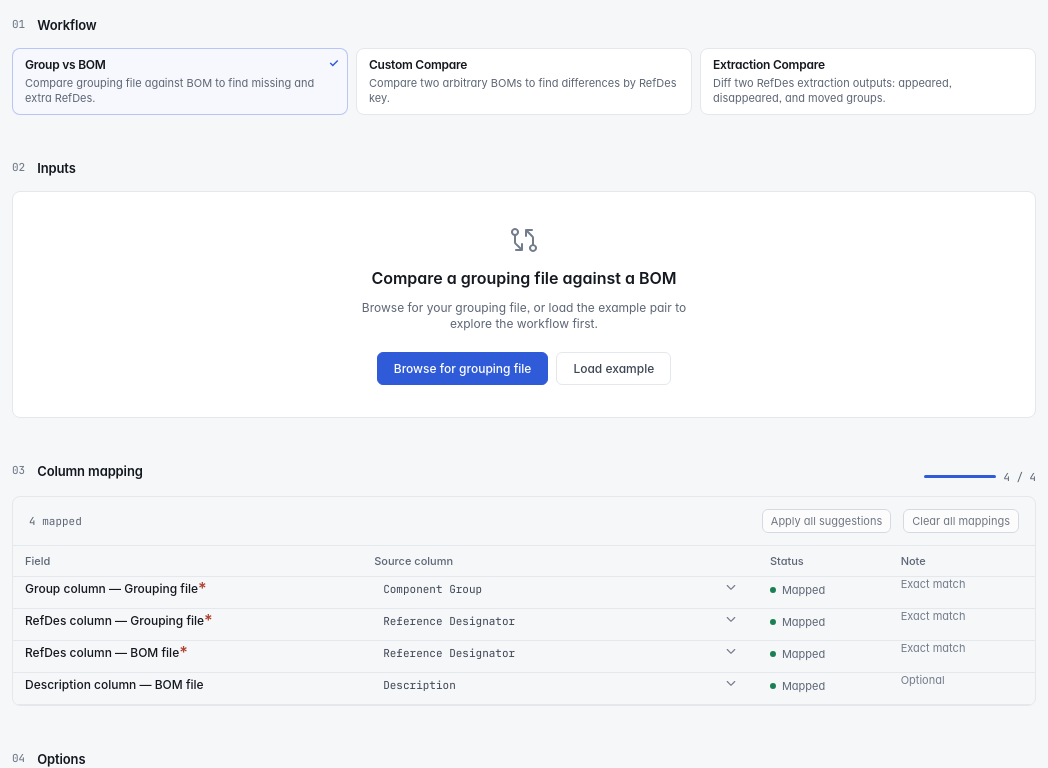
Test: BomCompareTool custom compare workflow › shows both file slots after switching to Custom Compare
The width and height of the screenshot is (1048, 768).
Click the button "Custom Compare": coordinates (524, 81) [356, 48, 692, 115]
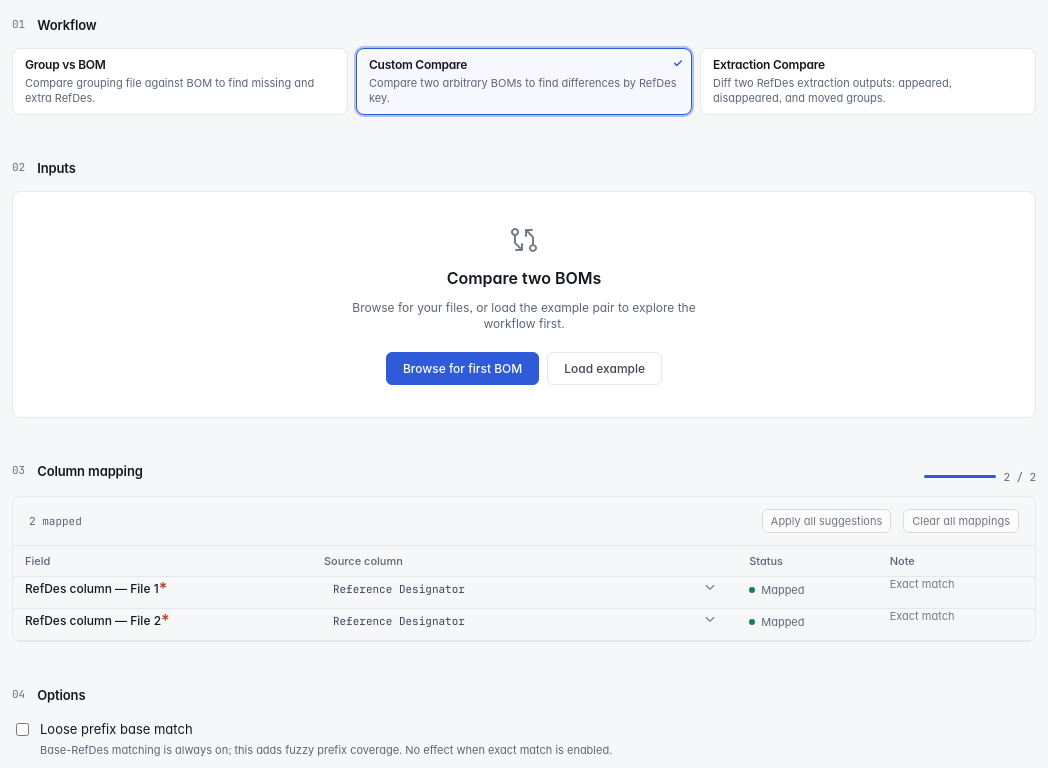
Click the button "Browse for first BOM": coordinates (463, 369) [386, 352, 539, 385]
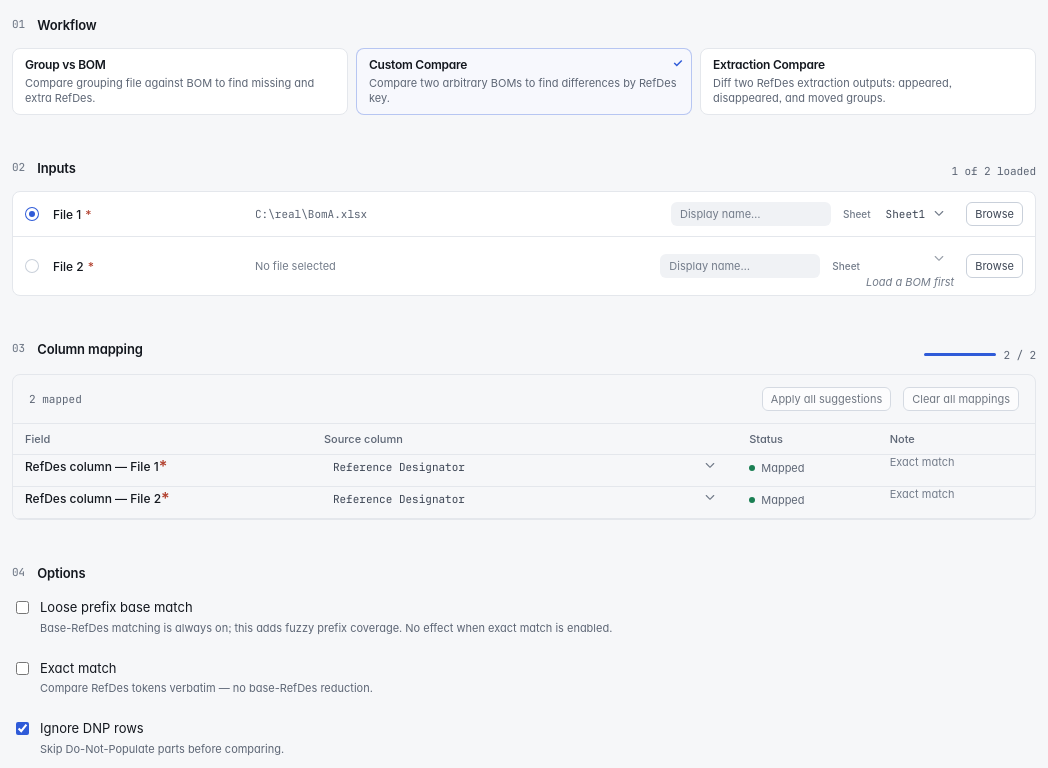
Expected: the text "File 1" is shown, [53, 207, 81, 222]
Expected: the text "File 2" is shown, [53, 259, 84, 274]
Expected: the number of buttons "Browse" is 2, [966, 202, 1023, 226]; [966, 254, 1023, 278]
